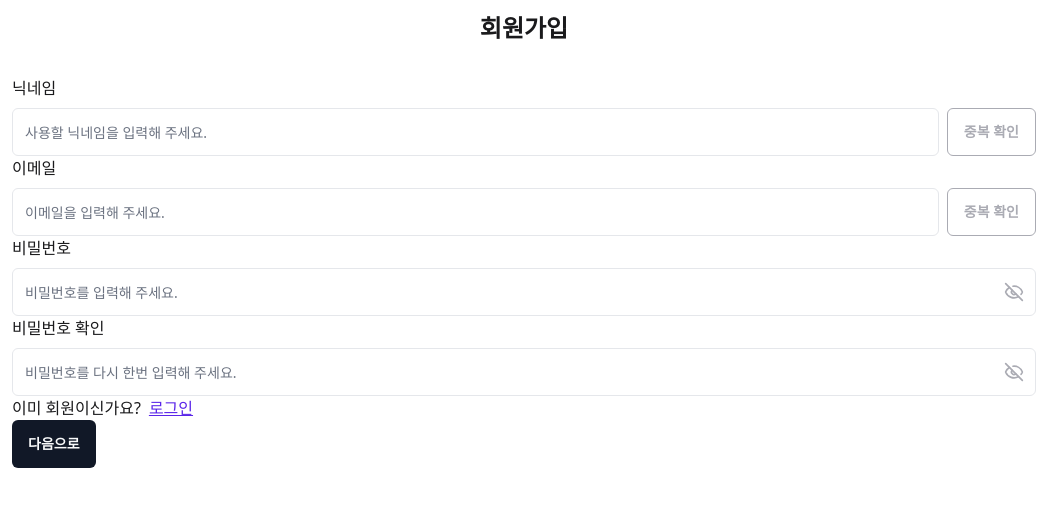
it: StepOne 컴포넌트 › 중복 확인 › 중복 확인 전에 메시지를 표시한다
Type "test" into the field with placeholder "사용할 닉네임을 입력해 주세요.".
click(475, 132); type("test")  # box [12,108,939,156]
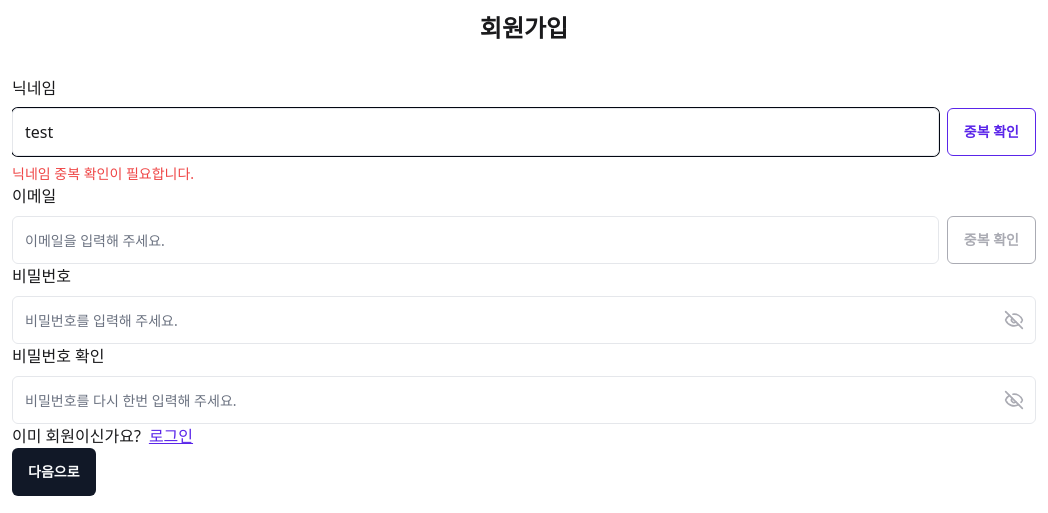
Check: the text "닉네임 중복 확인이 필요합니다." is shown, box [12,164,194,183]
